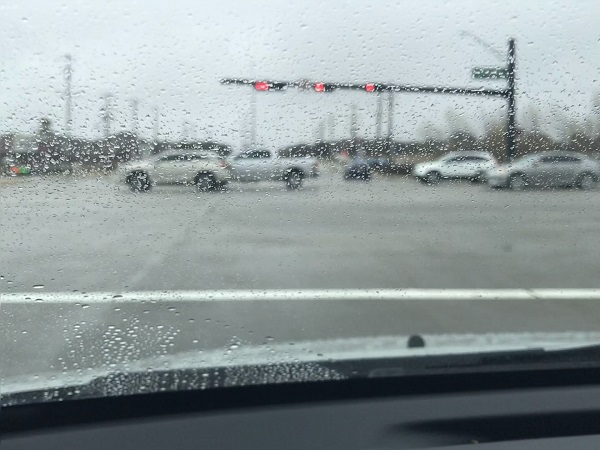car: (488, 147, 600, 189), (117, 149, 231, 190), (415, 150, 497, 184), (343, 160, 373, 182)
traffic light: (251, 78, 269, 92), (361, 81, 377, 93), (312, 79, 326, 92)
truck: (221, 144, 319, 188)
